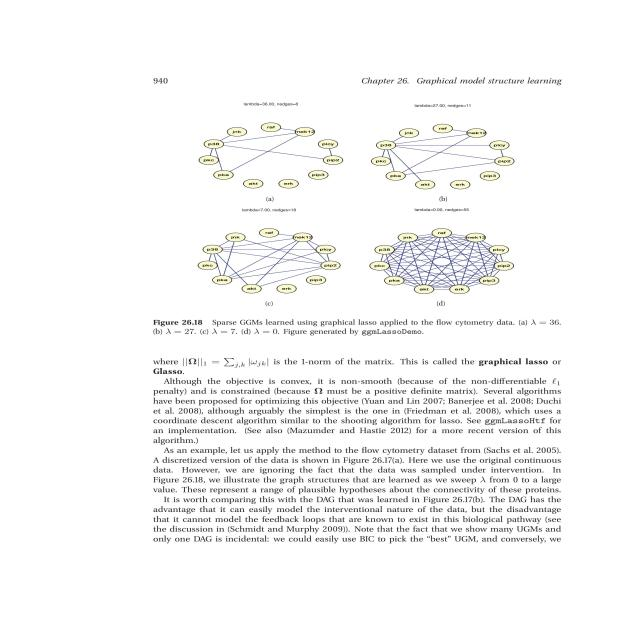diagram: (133, 90, 631, 353)
